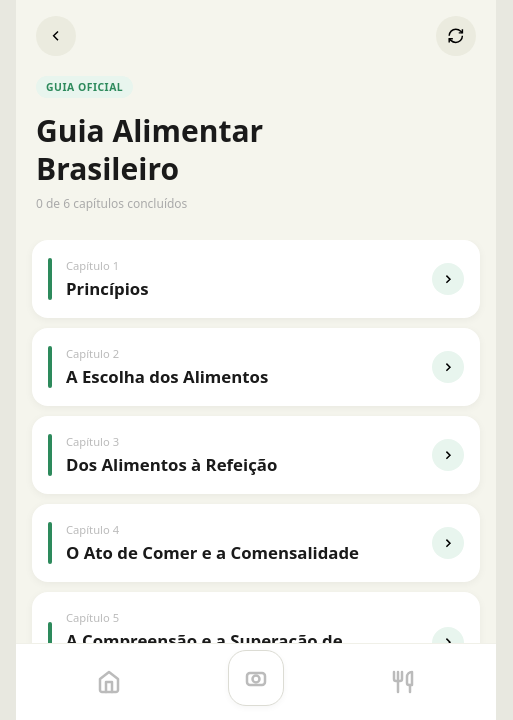
Test: Capitulo do Guia (/guia/capitulo) › exibe o card "sabia que" quando o capitulo possui um
This screenshot has width=513, height=720.
Click the text "A Escolha dos Alimentos".
click(167, 377)  # box [66,365,268,388]
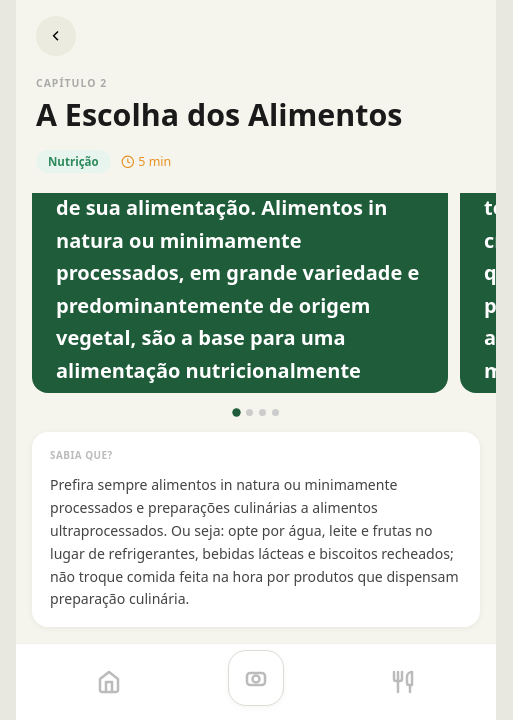
Expected: the text "Prefira sempre alimentos in natura ou minimamente processados" is shown, [50,475,459,608]
